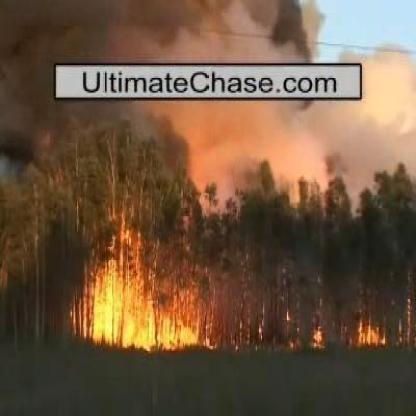-: (45, 3, 314, 60), (204, 101, 382, 164)
foggia-v2-map80-epoch100 - v1 4323: (88, 280, 147, 342), (357, 328, 382, 348), (311, 322, 322, 348)
